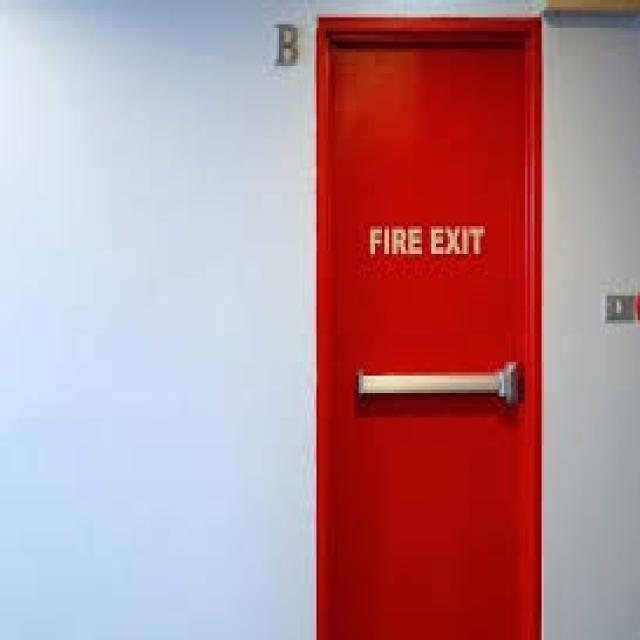door: (314, 14, 544, 640)
